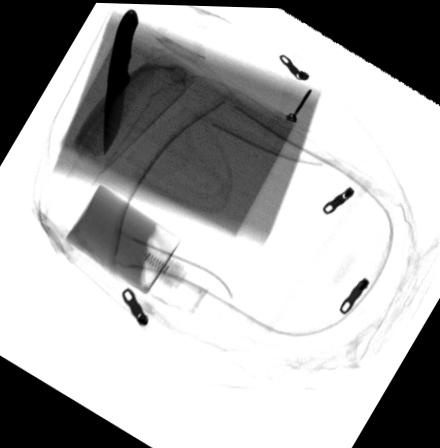Knife: (102, 8, 139, 157)
